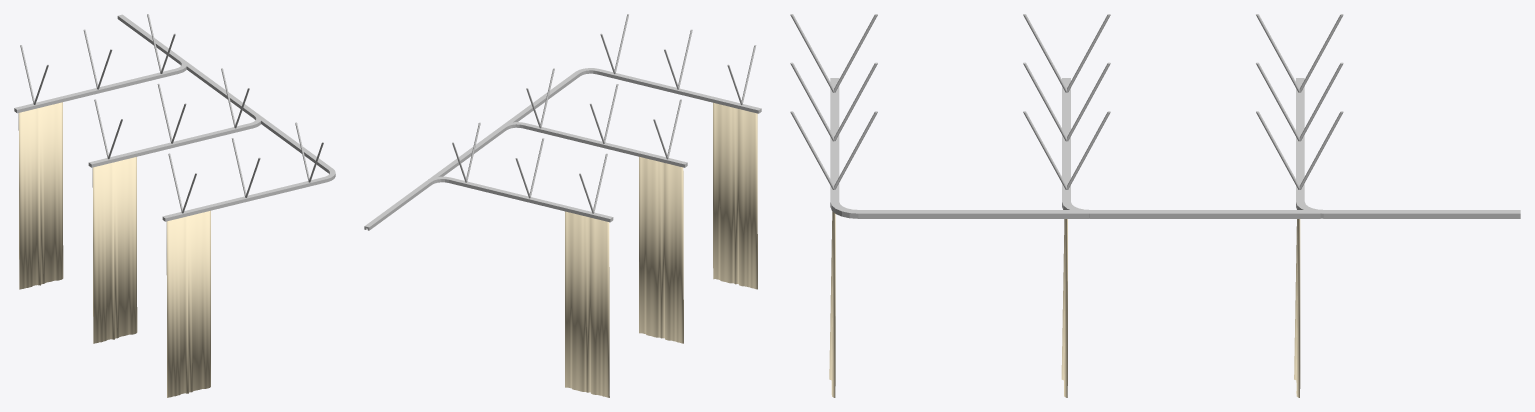
File: InfirmaryCurtain.fbx
The picture shows the model from 3 angles, left to right: view 1: azimuth 30°, elevation 25°; view 2: azimuth 150°, elevation 25°; view 3: azimuth 270°, elevation 25°; orthographic projection. The views are drawn at different scales.
Visible parts, largest first — view 1: 006.curtain.001; view 2: 006.curtain.001; view 3: 006.curtain.001.
Part boxes in pixels (x1=…): 006.curtain.001: x1=14, y1=14, x2=335, y2=397; 006.curtain.001: x1=364, y1=14, x2=761, y2=397; 006.curtain.001: x1=790, y1=14, x2=1520, y2=397.
Bounding box in the file's own units: 279 × 346 × 634.
